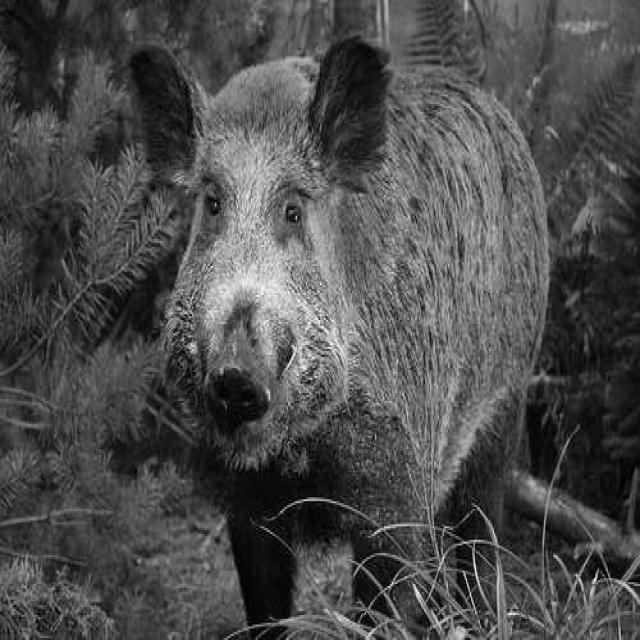boar: (129, 33, 545, 621)
